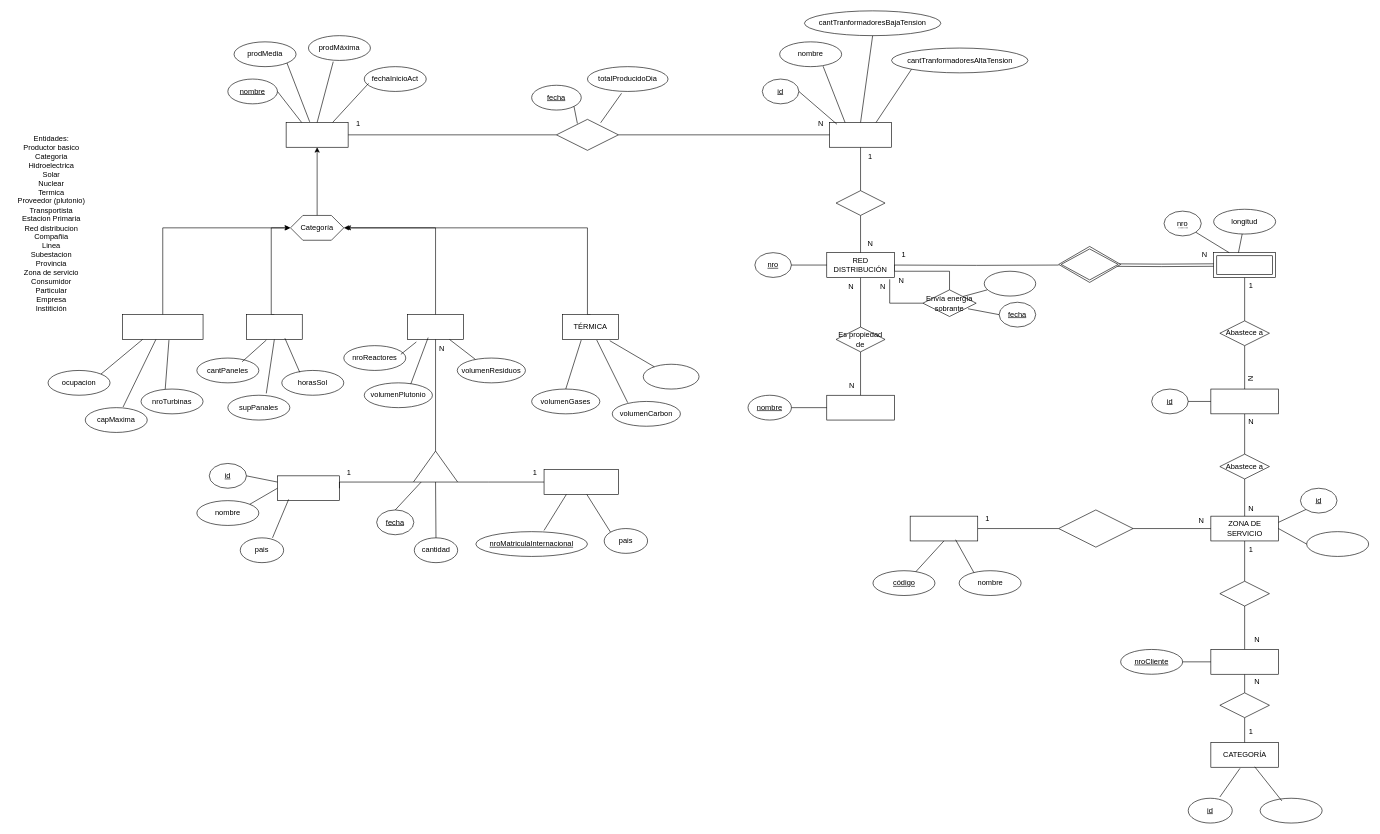
This 1380x834 diagram has some shape labels left out. Here are the shapes that lost their labels. From the top down, the centre of each, then its label:
At point (317, 134): "PRODUCTOR BÁSICO".
At point (587, 134): "Entrega produccion a".
At point (860, 134): "ESTACIÓN PRIMARIA".
At point (860, 202): "Es cabecera de".
At point (1010, 283): "volumen".
At point (1089, 264): "Compuesta por".
At point (1244, 264): "LINEA".
At point (162, 326): "HIDROELÉCTRICA".
At point (274, 326): "SOLAR".
At point (435, 326): "NUCLEAR".
At point (671, 376): "nroHornos".
At point (860, 407): "COMPAÑÍA ELÉCTRICA".
At point (1244, 401): "SUBESTACIÓN".
At point (435, 466): "Se le provee plutonio".
At point (580, 481): "TRANSPORTISTA".
At point (308, 488): "PROVEEDOR".
At point (944, 528): "PROVINCIA".
At point (1095, 528): "Se divide en".
At point (1337, 543): "consumoMedio".
At point (1244, 593): "Sirve a".
At point (1244, 661): "CONSUMIDOR FINAL".
At point (1244, 705): "Tiene".
At point (1291, 810): "descripcion".
